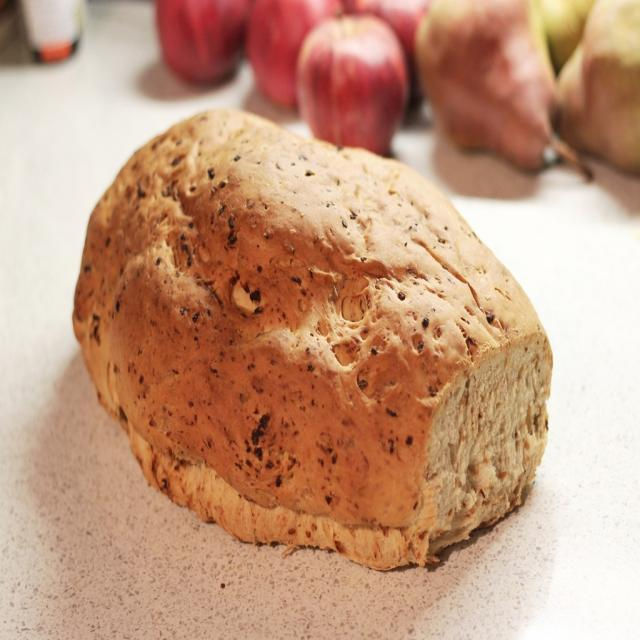Non_Gorille: (12, 0, 632, 640)
